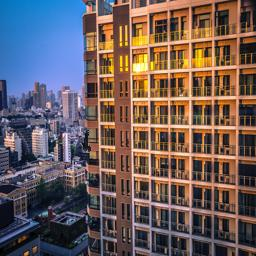Crow: (81, 128, 91, 153)
